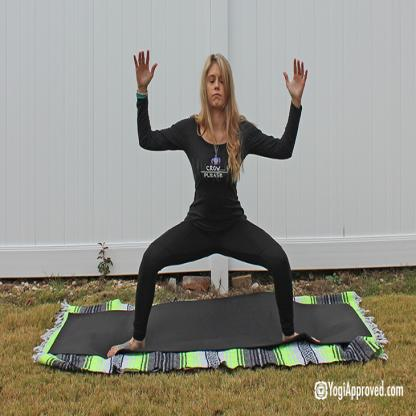godness: (99, 44, 324, 358)
